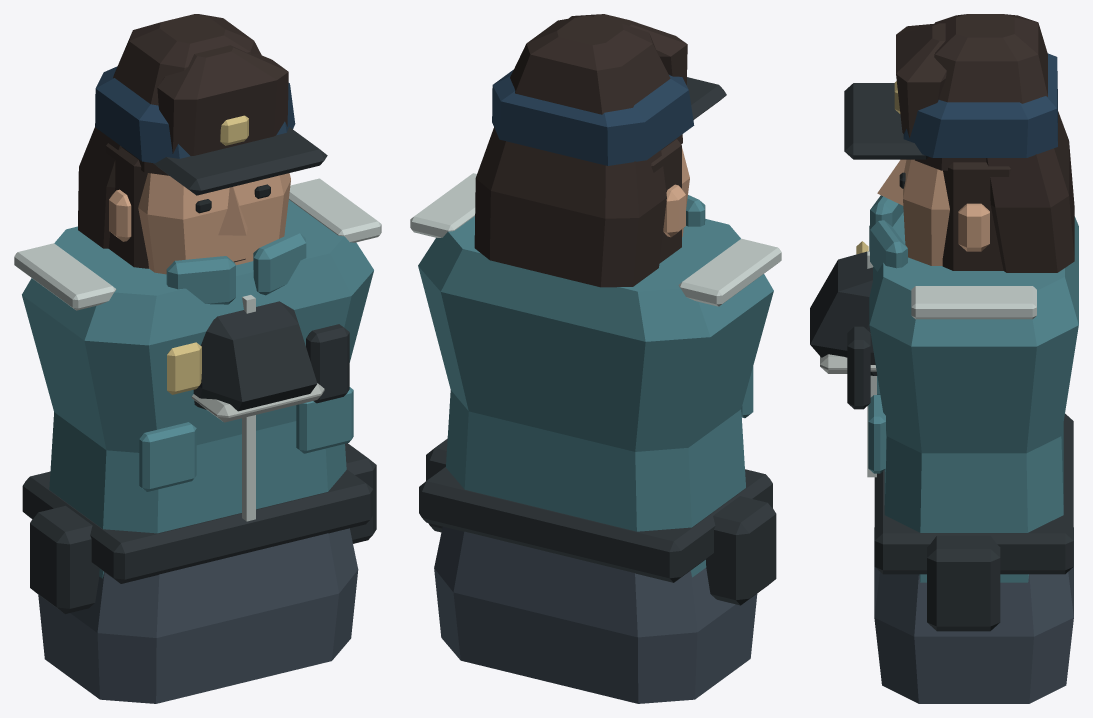
Rendered from human.glb.
3 renders of one model, left to right at view 1: azimuth 30°, elevation 25°; view 2: azimuth 150°, elevation 25°; view 3: azimuth 270°, elevation 25°, orthographic.
Parts seen in each view (by area): view 1: TailoredBody, Waist, DutyBelt, SweptFringe, Face, Shoe, HairCrown.001, BeltPouch, Peak, Cap, Epaulette, BobBack (+14 smaller); view 2: TailoredBody, Waist, BobBack, DutyBelt, HairCrown.001, Cap, BeltPouch, Epaulette, Epaulette.001, SweptFringe, BobSide, Peak (+2 smaller); view 3: TailoredBody, Waist, BobBack, HairCrown.001, Cap, DutyBelt, BeltPouch.001, Shoe, Peak, Epaulette.001, BobSide.001, Face (+9 smaller).
Part boxes in pixels (<box>): TailoredBody: <box>22,199,373,533</box>; Waist: <box>38,528,358,703</box>; DutyBelt: <box>22,469,373,583</box>; SweptFringe: <box>157,45,288,155</box>; Face: <box>138,173,290,274</box>; Shoe: <box>193,301,317,411</box>; HairCrown.001: <box>113,14,261,105</box>; BeltPouch: <box>30,505,99,613</box>; Peak: <box>153,127,327,195</box>; Cap: <box>95,66,295,163</box>; Epaulette: <box>14,243,116,310</box>; BobBack: <box>78,127,121,248</box>; TailoredBody: <box>418,216,773,531</box>; Waist: <box>434,526,757,703</box>; BobBack: <box>474,127,666,287</box>; DutyBelt: <box>419,467,772,582</box>; HairCrown.001: <box>510,15,670,114</box>; Cap: <box>492,69,694,165</box>; BeltPouch: <box>706,496,776,605</box>; Epaulette: <box>678,238,781,306</box>; Epaulette.001: <box>410,173,476,237</box>; SweptFringe: <box>569,14,687,84</box>; BobSide: <box>651,139,681,263</box>; Peak: <box>686,77,726,119</box>; TailoredBody: <box>869,212,1078,532</box>; Waist: <box>874,527,1073,703</box>; BobBack: <box>986,111,1074,272</box>; HairCrown.001: <box>934,14,1047,103</box>; Cap: <box>903,53,1057,157</box>; DutyBelt: <box>874,413,1073,574</box>; BeltPouch.001: <box>927,535,1000,631</box>; Shoe: <box>810,251,877,375</box>; Peak: <box>844,83,928,159</box>; Epaulette.001: <box>911,286,1036,319</box>; BobSide.001: <box>942,162,1010,270</box>; Face: <box>903,159,949,265</box>.
Bounding box in the file's own units: 0.53 × 0.975 × 0.385.
